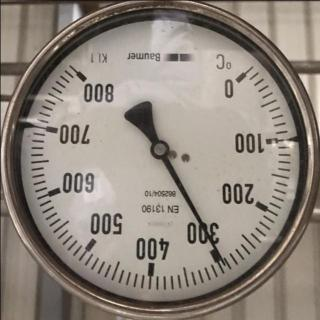gauge: (1, 1, 319, 319), (215, 58, 257, 102), (70, 65, 98, 95), (148, 138, 170, 160), (215, 256, 229, 272)
